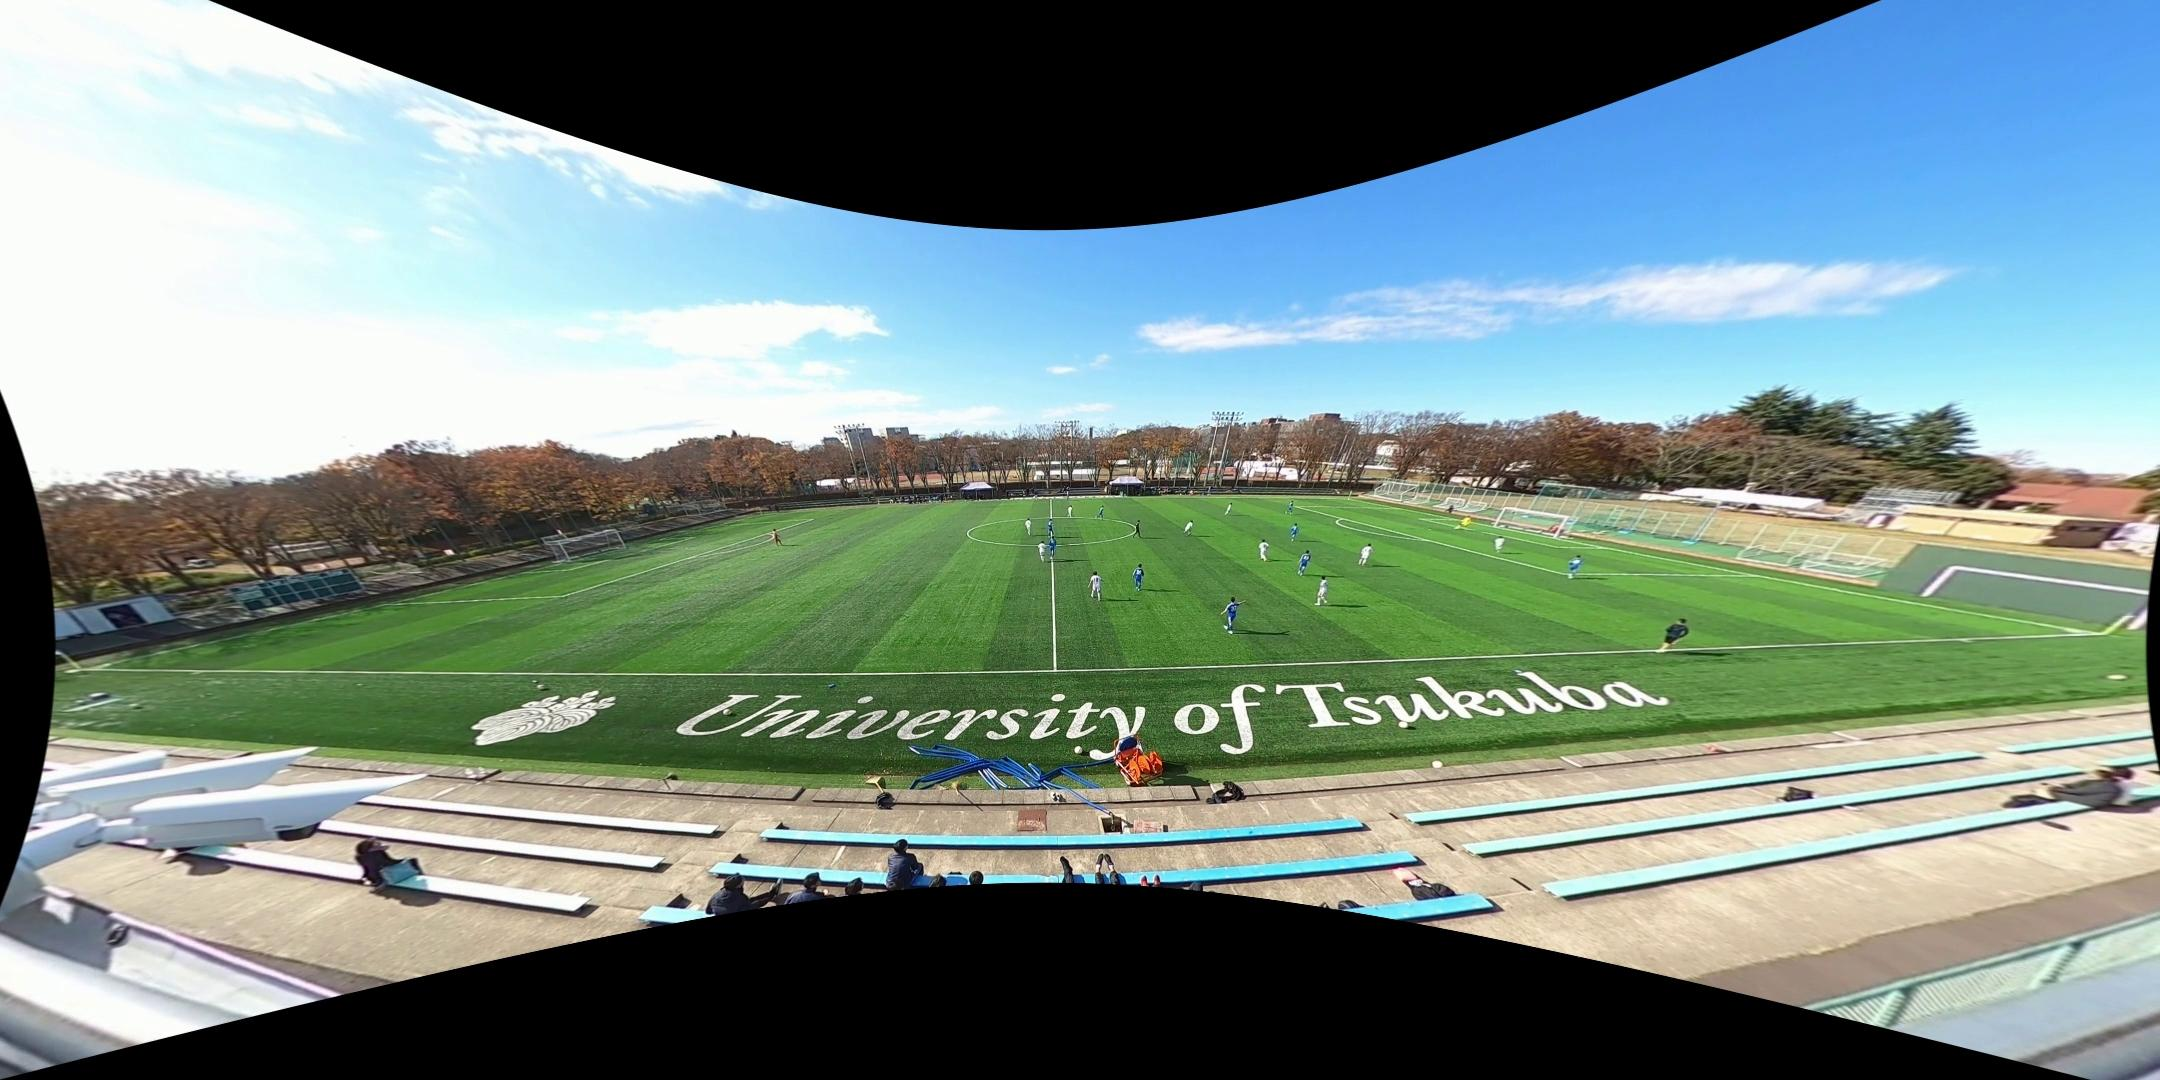person: (1657, 618, 1689, 653), (1221, 597, 1246, 635), (1087, 571, 1104, 601), (1315, 575, 1329, 606), (1568, 553, 1584, 580), (1132, 564, 1145, 592), (1298, 550, 1312, 576), (1358, 543, 1373, 566), (1454, 515, 1472, 530), (1259, 539, 1270, 562), (1494, 536, 1507, 554), (1181, 520, 1194, 536), (771, 529, 782, 547), (1048, 536, 1057, 556), (1046, 519, 1055, 538), (1038, 541, 1046, 562), (1291, 523, 1299, 541), (1133, 520, 1141, 538), (1284, 501, 1295, 514), (1095, 505, 1104, 520), (1025, 518, 1032, 536), (1224, 503, 1233, 515), (1067, 505, 1073, 518)
sports ball: (2106, 671, 2129, 685), (1430, 758, 1447, 771), (1396, 719, 1412, 731), (129, 701, 143, 712), (1073, 744, 1086, 755), (722, 707, 734, 718), (536, 682, 548, 693)
